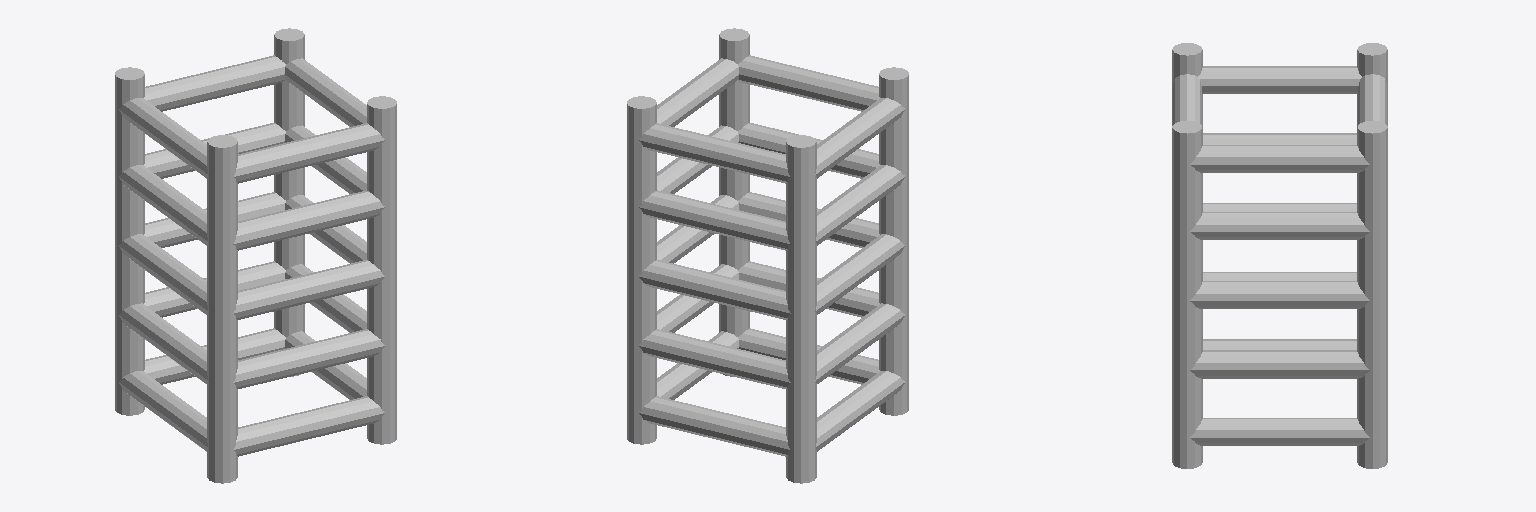
File: barrierStrut.obj
3 views of the same model, side by side, from view 1: azimuth 30°, elevation 25°; view 2: azimuth 150°, elevation 25°; view 3: azimuth 270°, elevation 25° (orthographic).
Parts seen in each view (by area): view 1: barrierStrut_Cube.594; view 2: barrierStrut_Cube.594; view 3: barrierStrut_Cube.594.
Boxes of the visible parts, x1=… form: barrierStrut_Cube.594: x1=115, y1=28, x2=396, y2=483; barrierStrut_Cube.594: x1=627, y1=28, x2=908, y2=483; barrierStrut_Cube.594: x1=1172, y1=43, x2=1387, y2=468.
Bounding box in the file's own units: 1.16 × 2 × 1.17.